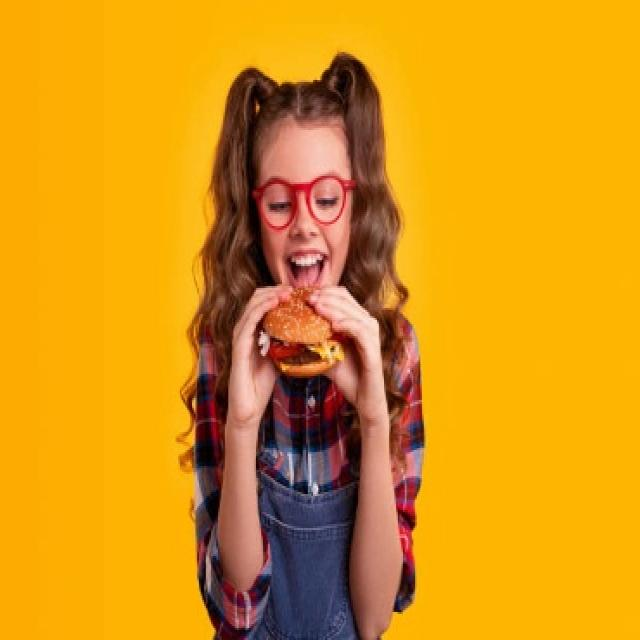child: (166, 46, 426, 640)
